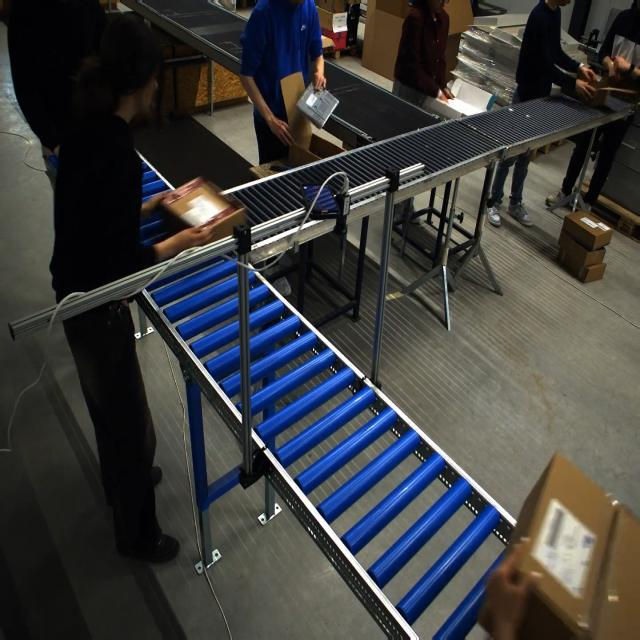box: (482, 451, 640, 638), (159, 176, 245, 246), (580, 71, 639, 107)
product: (298, 77, 339, 130)
